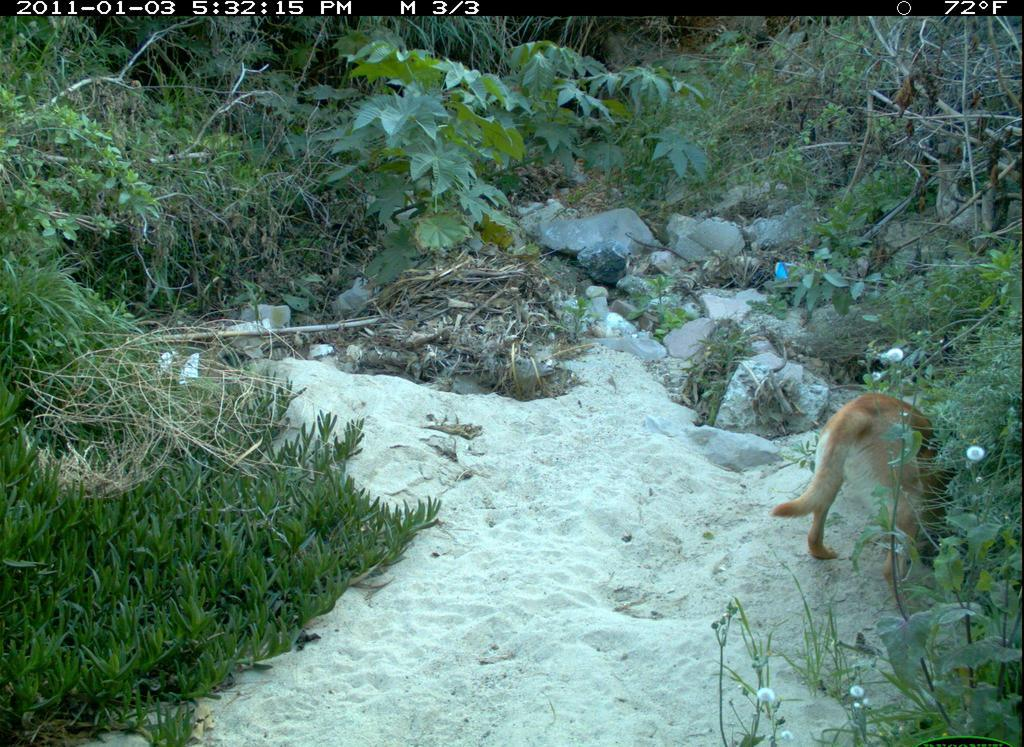dog: (762, 382, 989, 601)
